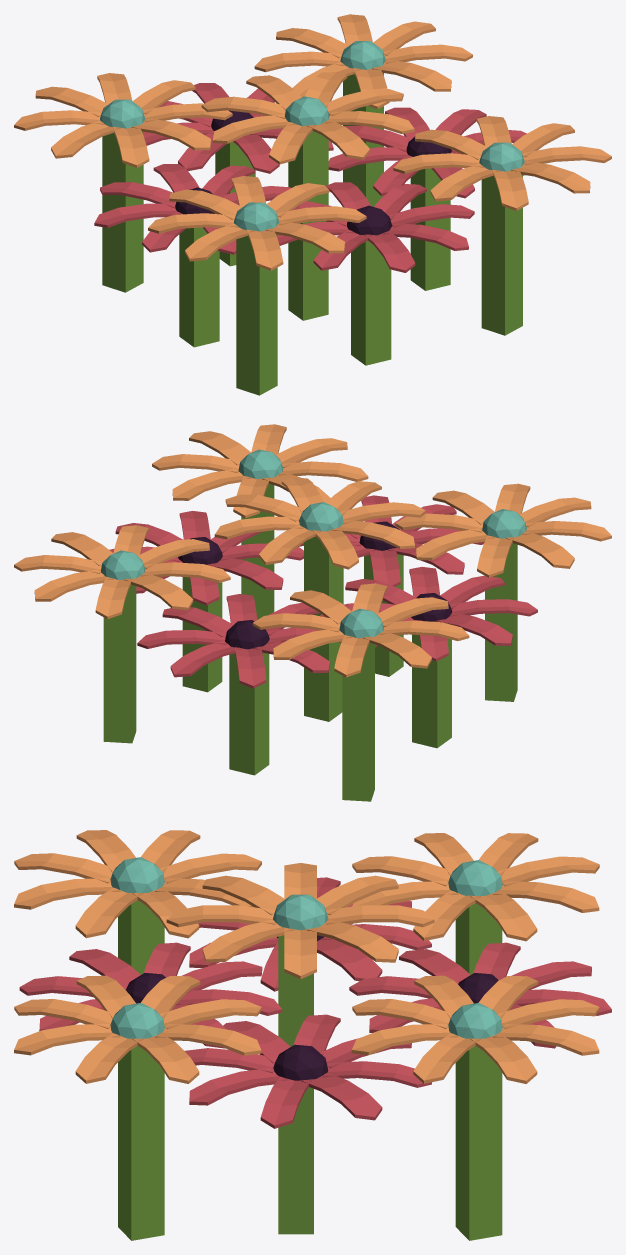
File: dyes.glb
3 renders of one model, top to bottom at view 1: azimuth 30°, elevation 25°; view 2: azimuth 150°, elevation 25°; view 3: azimuth 270°, elevation 25°, orthographic. The views are drawn at different scales.
Parts seen in each view (by area): view 1: Cube; view 2: Cube; view 3: Cube.
Part boxes in pixels (box(x1,y1,x2,y2)): Cube: box(14, 14, 611, 395); Cube: box(14, 424, 611, 801); Cube: box(14, 830, 611, 1240).
Size of the model in its own units: 2.47 by 1.19 by 2.49.
